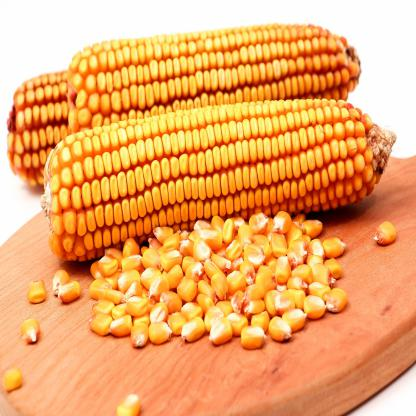corn: (43, 100, 393, 262), (71, 24, 362, 131), (7, 70, 70, 182)
